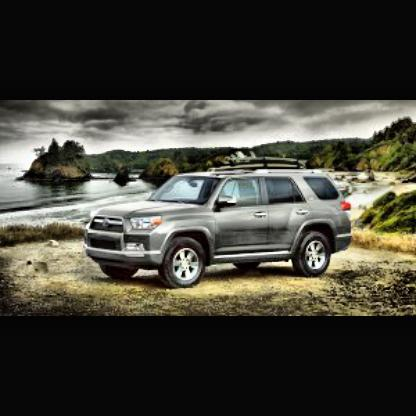Toyota 4Runner SUV 2012: (84, 164, 358, 291)
